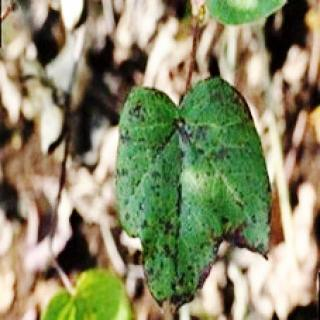leaf spot: (118, 77, 274, 313)
